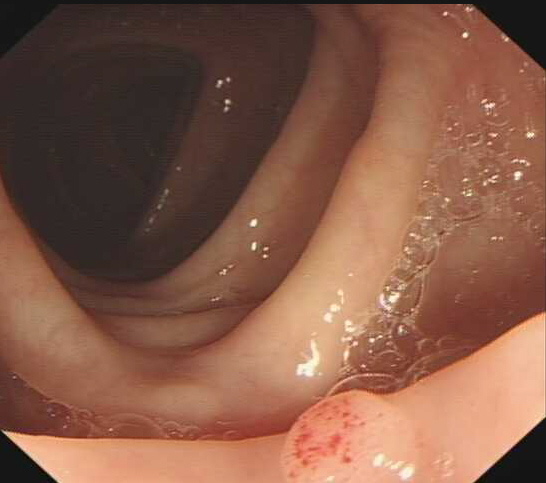adenoma: (277, 387, 417, 482)
